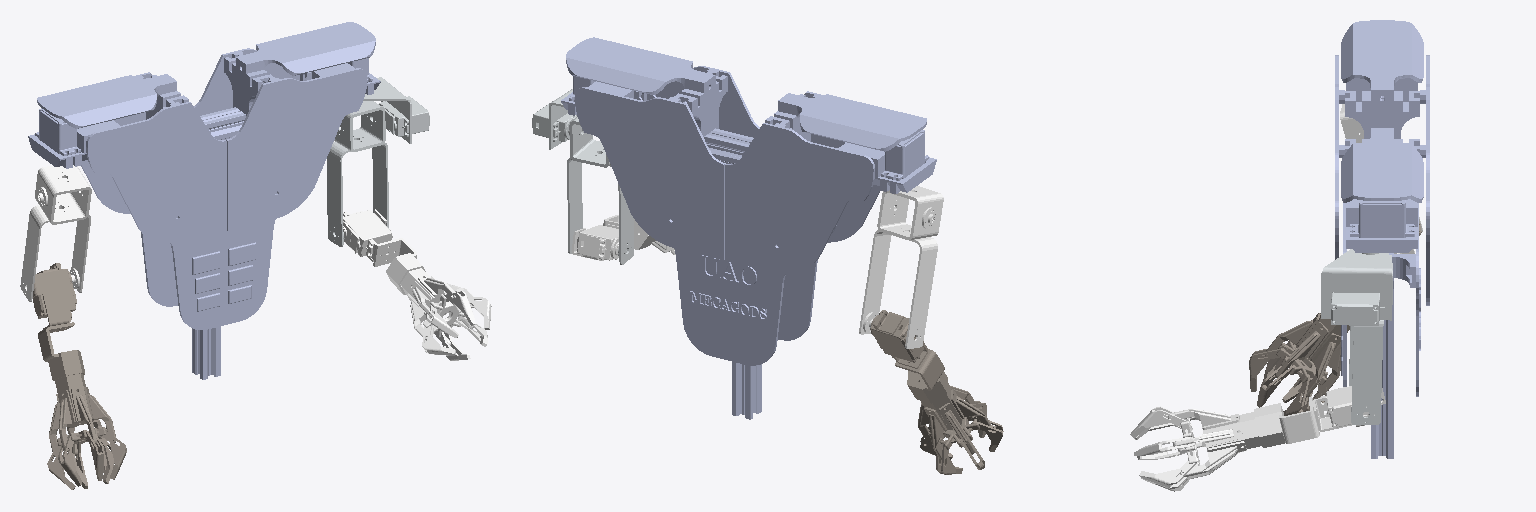
URDF robot description (QUIRON7):
<?xml version="1.0" encoding="utf-8"?>
<!-- This URDF was automatically created by SolidWorks to URDF Exporter! Originally created by Stephen Brawner (brawner@gmail.com) 
     Commit Version: 1.6.0-4-g7f85cfe  Build Version: 1.6.7995.38578
     For more information, please see http://wiki.ros.org/sw_urdf_exporter -->
<robot
  name="QUIRON7">
  <link
    name="base_link">
    <inertial>
      <origin
        xyz="0.00578282915295339 0.0874179961670575 -0.00989303515041911"
        rpy="0 0 0" />
      <mass
        value="0.874043618143883" />
      <inertia
        ixx="0.00090014782593901"
        ixy="2.96996963115652E-08"
        ixz="-2.94237260315299E-07"
        iyy="0.00154758809403066"
        iyz="-1.68438648058579E-07"
        izz="0.000882577791370176" />
    </inertial>
    <visual>
      <origin
        xyz="0 0 0"
        rpy="0 0 0" />
      <geometry>
        <mesh
          filename="package://QUIRON7/meshes/base_link.STL" />
      </geometry>
      <material
        name="">
        <color
          rgba="0.792156862745098 0.819607843137255 0.933333333333333 1" />
      </material>
    </visual>
    <collision>
      <origin
        xyz="0 0 0"
        rpy="0 0 0" />
      <geometry>
        <mesh
          filename="package://QUIRON7/meshes/base_link.STL" />
      </geometry>
    </collision>
  </link>
  <link
    name="1">
    <inertial>
      <origin
        xyz="-0.0329343263835957 -0.0110855893364794 0.0267565257812204"
        rpy="0 0 0" />
      <mass
        value="0.042620195466393" />
      <inertia
        ixx="1.32638623243409E-05"
        ixy="-7.312844782768E-07"
        ixz="2.26181496603605E-06"
        iyy="9.95976703108748E-06"
        iyz="8.36846388932156E-07"
        izz="1.38210798775457E-05" />
    </inertial>
    <visual>
      <origin
        xyz="0 0 0"
        rpy="0 0 0" />
      <geometry>
        <mesh
          filename="package://QUIRON7/meshes/1.STL" />
      </geometry>
      <material
        name="">
        <color
          rgba="0.647058823529412 0.619607843137255 0.588235294117647 1" />
      </material>
    </visual>
    <collision>
      <origin
        xyz="0 0 0"
        rpy="0 0 0" />
      <geometry>
        <mesh
          filename="package://QUIRON7/meshes/1.STL" />
      </geometry>
    </collision>
  </link>
  <joint
    name="1.1"
    type="revolute">
    <origin
      xyz="-0.15635 0.0777 0.014973"
      rpy="-3.1416 0 0" />
    <parent
      link="base_link" />
    <child
      link="1" />
    <axis
      xyz="0 0 1" />
    <limit
      lower="0"
      upper="0"
      effort="0"
      velocity="0" />
  </joint>
  <link
    name="1.2">
    <inertial>
      <origin
        xyz="-0.00654051749530384 0.0252109153330423 0.0223188487542951"
        rpy="0 0 0" />
      <mass
        value="0.0787590269043271" />
      <inertia
        ixx="6.95311323108007E-05"
        ixy="8.50759659078169E-06"
        ixz="-9.3173624197973E-21"
        iyy="3.89451056060692E-05"
        iyz="-7.94094488148321E-20"
        izz="5.07360068449831E-05" />
    </inertial>
    <visual>
      <origin
        xyz="0 0 0"
        rpy="0 0 0" />
      <geometry>
        <mesh
          filename="package://QUIRON7/meshes/1.2.STL" />
      </geometry>
      <material
        name="">
        <color
          rgba="1 1 1 1" />
      </material>
    </visual>
    <collision>
      <origin
        xyz="0 0 0"
        rpy="0 0 0" />
      <geometry>
        <mesh
          filename="package://QUIRON7/meshes/1.2.STL" />
      </geometry>
    </collision>
  </link>
  <joint
    name="1.2"
    type="revolute">
    <origin
      xyz="-0.022119 -0.0026732 0.03805"
      rpy="1.5708 0 1.6911" />
    <parent
      link="1" />
    <child
      link="1.2" />
    <axis
      xyz="0 0 1" />
    <limit
      lower="0"
      upper="0"
      effort="0"
      velocity="0" />
  </joint>
  <link
    name="1.3">
    <inertial>
      <origin
        xyz="0.0824733467062866 -0.00153674160004263 -0.0272274163551649"
        rpy="0 0 0" />
      <mass
        value="0.102570276177066" />
      <inertia
        ixx="1.04451167085951E-05"
        ixy="3.10316851170496E-09"
        ixz="-6.69432956589731E-07"
        iyy="2.30407494529309E-05"
        iyz="4.40719055481101E-08"
        izz="2.2092167506052E-05" />
    </inertial>
    <visual>
      <origin
        xyz="0 0 0"
        rpy="0 0 0" />
      <geometry>
        <mesh
          filename="package://QUIRON7/meshes/1.3.STL" />
      </geometry>
      <material
        name="">
        <color
          rgba="0.650980392156863 0.619607843137255 0.588235294117647 1" />
      </material>
    </visual>
    <collision>
      <origin
        xyz="0 0 0"
        rpy="0 0 0" />
      <geometry>
        <mesh
          filename="package://QUIRON7/meshes/1.3.STL" />
      </geometry>
    </collision>
  </link>
  <joint
    name="1.3"
    type="revolute">
    <origin
      xyz="-0.027623 0.10648 0.045"
      rpy="0 0 0.97443" />
    <parent
      link="1.2" />
    <child
      link="1.3" />
    <axis
      xyz="0 0 1" />
    <limit
      lower="0"
      upper="0"
      effort="0"
      velocity="0" />
  </joint>
  <link
    name="2">
    <inertial>
      <origin
        xyz="0.0084667228959798 -0.0328439790799264 0.0199322839385306"
        rpy="0 0 0" />
      <mass
        value="0.0407294888215925" />
      <inertia
        ixx="9.94550186001036E-06"
        ixy="9.69221691375817E-07"
        ixz="-6.61031485119795E-07"
        iyy="1.31282395881463E-05"
        iyz="2.31930220539592E-06"
        izz="1.36728473972807E-05" />
    </inertial>
    <visual>
      <origin
        xyz="0 0 0"
        rpy="0 0 0" />
      <geometry>
        <mesh
          filename="package://QUIRON7/meshes/2.STL" />
      </geometry>
      <material
        name="">
        <color
          rgba="0.898039215686275 0.917647058823529 0.929411764705882 1" />
      </material>
    </visual>
    <collision>
      <origin
        xyz="0 0 0"
        rpy="0 0 0" />
      <geometry>
        <mesh
          filename="package://QUIRON7/meshes/2.STL" />
      </geometry>
    </collision>
  </link>
  <joint
    name="2.1"
    type="revolute">
    <origin
      xyz="0.16775 0.0777 0.0086734"
      rpy="-3.1416 0 -1.5708" />
    <parent
      link="base_link" />
    <child
      link="2" />
    <axis
      xyz="0 0 1" />
    <limit
      lower="0"
      upper="0"
      effort="0"
      velocity="0" />
  </joint>
  <link
    name="2.2">
    <inertial>
      <origin
        xyz="0.026035767617037 -0.000712338141409613 -0.0223188487542951"
        rpy="0 0 0" />
      <mass
        value="0.0787590269043272" />
      <inertia
        ixx="3.67641435782604E-05"
        ixy="9.56891613595238E-07"
        ixz="3.83735063427656E-20"
        iyy="7.17120943386096E-05"
        iyz="8.470329472543E-21"
        izz="5.07360068449831E-05" />
    </inertial>
    <visual>
      <origin
        xyz="0 0 0"
        rpy="0 0 0" />
      <geometry>
        <mesh
          filename="package://QUIRON7/meshes/2.2.STL" />
      </geometry>
      <material
        name="">
        <color
          rgba="0.898039215686275 0.917647058823529 0.929411764705882 1" />
      </material>
    </visual>
    <collision>
      <origin
        xyz="0 0 0"
        rpy="0 0 0" />
      <geometry>
        <mesh
          filename="package://QUIRON7/meshes/2.2.STL" />
      </geometry>
    </collision>
  </link>
  <joint
    name="2.2"
    type="revolute">
    <origin
      xyz="0.00097002 -0.022259 0.03175"
      rpy="1.5272 -1.5708 0" />
    <parent
      link="2" />
    <child
      link="2.2" />
    <axis
      xyz="0 0 1" />
    <limit
      lower="0"
      upper="0"
      effort="0"
      velocity="0" />
  </joint>
  <link
    name="2.3">
    <inertial>
      <origin
        xyz="0.0824734208629852 -0.00153673432879109 -0.0272274427306729"
        rpy="0 0 0" />
      <mass
        value="0.102570172391228" />
      <inertia
        ixx="1.04451135277757E-05"
        ixy="3.10561119085743E-09"
        ixz="-6.69425842178878E-07"
        iyy="2.30407655439993E-05"
        iyz="4.4061066481365E-08"
        izz="2.20921895006837E-05" />
    </inertial>
    <visual>
      <origin
        xyz="0 0 0"
        rpy="0 0 0" />
      <geometry>
        <mesh
          filename="package://QUIRON7/meshes/2.3.STL" />
      </geometry>
      <material
        name="">
        <color
          rgba="1 1 1 1" />
      </material>
    </visual>
    <collision>
      <origin
        xyz="0 0 0"
        rpy="0 0 0" />
      <geometry>
        <mesh
          filename="package://QUIRON7/meshes/2.3.STL" />
      </geometry>
    </collision>
  </link>
  <joint
    name="2.3"
    type="revolute">
    <origin
      xyz="0.10996 -0.0030085 -0.045"
      rpy="3.1416 0 -1.3483" />
    <parent
      link="2.2" />
    <child
      link="2.3" />
    <axis
      xyz="0 0 1" />
    <limit
      lower="0"
      upper="0"
      effort="0"
      velocity="0" />
  </joint>
</robot>

--- Facts derived from the render (not from the file) ---
The picture shows the robot from 3 angles, left to right: view 1: azimuth 30°, elevation 25°; view 2: azimuth 150°, elevation 25°; view 3: azimuth 270°, elevation 25°; orthographic projection.
Robot: QUIRON7 — 7 links, 6 joints (6 revolute); root link base_link; default pose: every joint at zero.
Visible links, largest first — view 1: base_link, 1.3, 2.3, 1.2, 2.2, 2; view 2: base_link, 1.3, 1.2, 2.2, 2.3, 2; view 3: base_link, 2.3, 1.3, 2, 2.2, 1.2.
Link boxes in pixels (x1=…): base_link: x1=28, y1=22, x2=380, y2=379; 1.3: x1=33, y1=263, x2=126, y2=489; 2.3: x1=343, y1=209, x2=491, y2=360; 1.2: x1=20, y1=165, x2=91, y2=301; 2.2: x1=327, y1=101, x2=388, y2=246; 2: x1=363, y1=77, x2=429, y2=143; base_link: x1=561, y1=37, x2=936, y2=419; 1.3: x1=870, y1=310, x2=1003, y2=474; 1.2: x1=859, y1=186, x2=943, y2=348; 2.2: x1=567, y1=117, x2=633, y2=264; 2.3: x1=572, y1=215, x2=675, y2=260; 2: x1=532, y1=89, x2=576, y2=149; base_link: x1=1335, y1=20, x2=1429, y2=458; 2.3: x1=1130, y1=386, x2=1385, y2=491; 1.3: x1=1249, y1=223, x2=1421, y2=415; 2: x1=1321, y1=249, x2=1391, y2=325; 2.2: x1=1349, y1=255, x2=1392, y2=424; 1.2: x1=1340, y1=104, x2=1422, y2=253.
Bounding box of the posed robot: 0.4395 × 0.2541 × 0.3722 m (x, y, z).
Meshes: 7 distinct files referenced, 6 mesh visuals loaded (6 binary STL); not drawn: 1 (reference not matched to a file when rendering).
